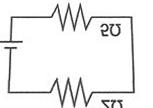resistor: (42, 68, 91, 107), (49, 1, 97, 31)
